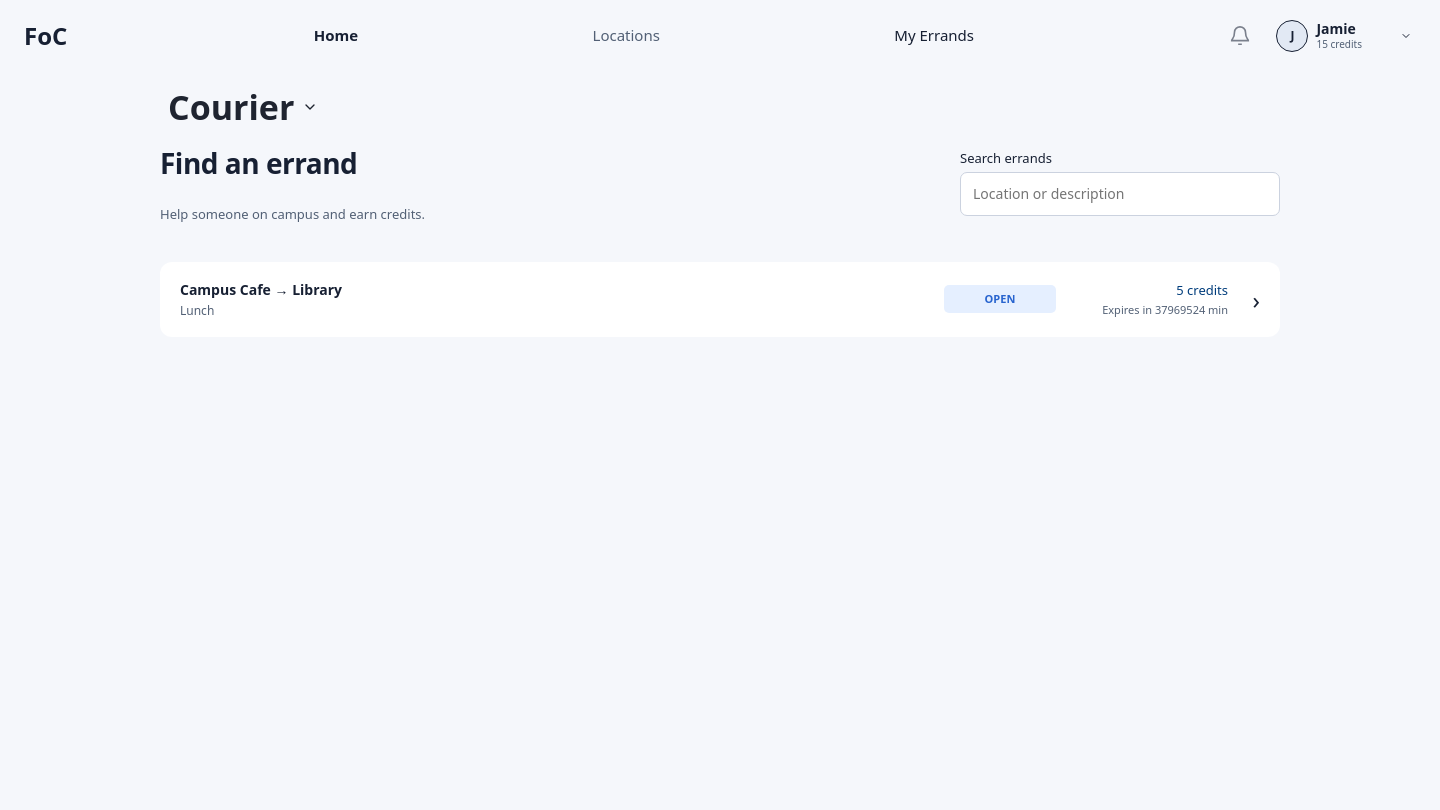
it: refreshes after a lost accept response without automatically submitting again
Click the link that starts with "Campus Cafe" at (225, 289), box top-left (160, 262), bottom-right (1280, 337)
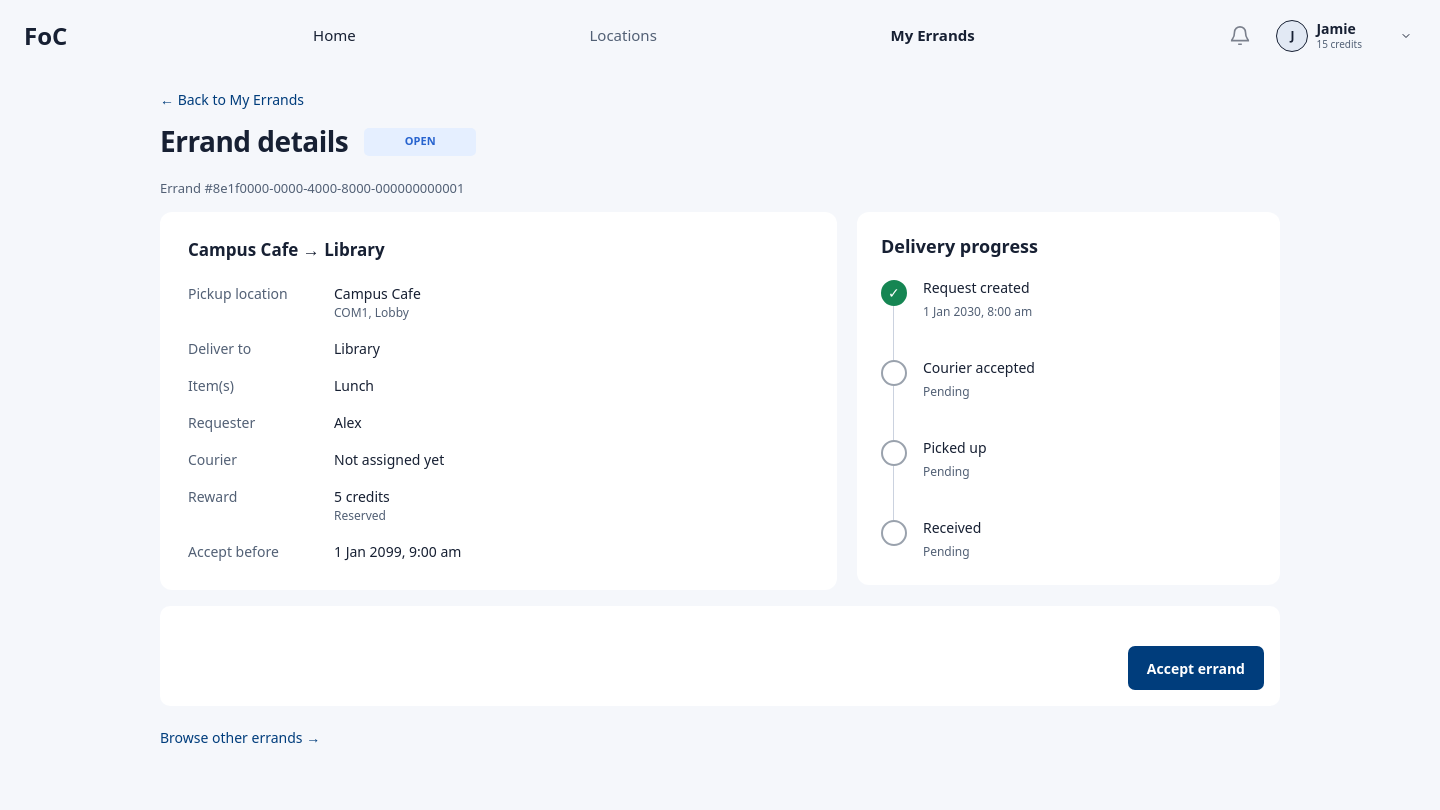
Check: the text "COM1, Lobby" is shown, box top-left (334, 304), bottom-right (409, 321)
Click the button "Accept errand" at (1196, 668), box top-left (1128, 646), bottom-right (1264, 690)
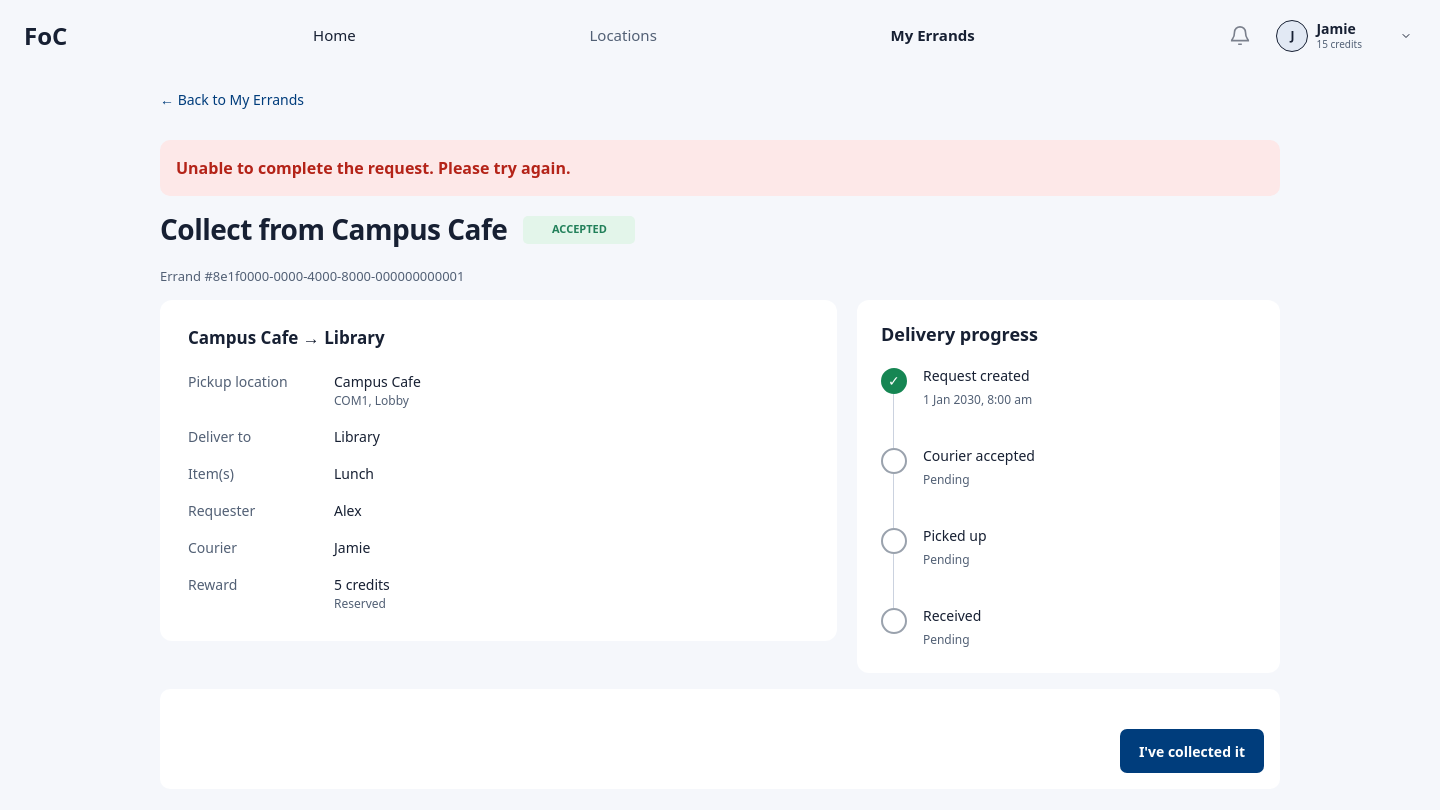
Check: the message "Unable to complete the request. Please try again." is shown, box top-left (160, 140), bottom-right (1280, 196)
Check: the button "Accept errand" is gone
